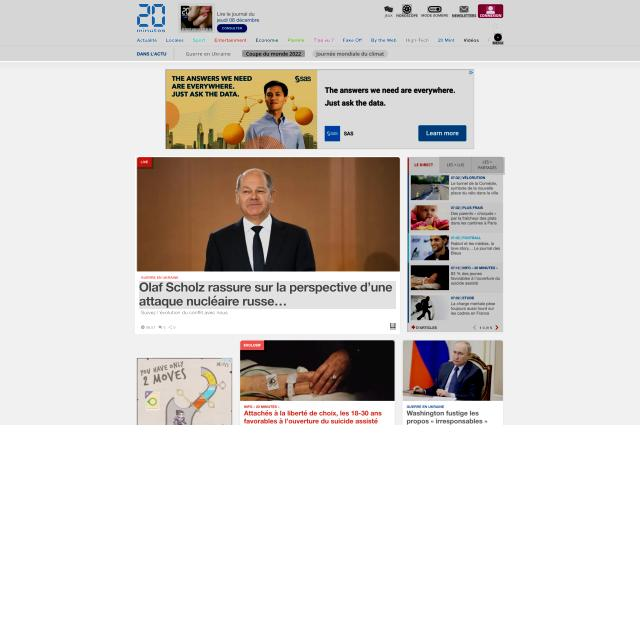CheckBox: (217, 24, 247, 33)
CheckedTextView: (422, 21, 504, 33)
ImageView: (165, 69, 474, 149), (136, 356, 233, 425)
RadioButton: (240, 340, 264, 350)
Spinner: (135, 156, 400, 334)
TextView: (407, 157, 503, 332)
bag: (0, 0, 640, 61)
carousel: (427, 6, 442, 13), (402, 4, 412, 14), (486, 6, 495, 14), (494, 33, 502, 41), (384, 6, 394, 12), (460, 6, 468, 13), (390, 324, 396, 332), (492, 23, 498, 30)
copy: (135, 157, 400, 271), (137, 157, 400, 271), (240, 340, 395, 401), (403, 340, 503, 401)
data feed: (396, 13, 418, 18), (452, 14, 476, 18), (221, 26, 243, 30), (421, 14, 449, 17), (480, 14, 502, 17), (492, 41, 504, 45), (384, 14, 393, 18)
date picker: (133, 0, 169, 36)
decoration: (134, 37, 483, 44)
dropdown: (472, 324, 500, 332)
footer: (426, 24, 451, 30)
icon: (409, 157, 505, 175)
illustration: (242, 50, 305, 57), (181, 50, 235, 58)
image: (140, 281, 398, 309)
